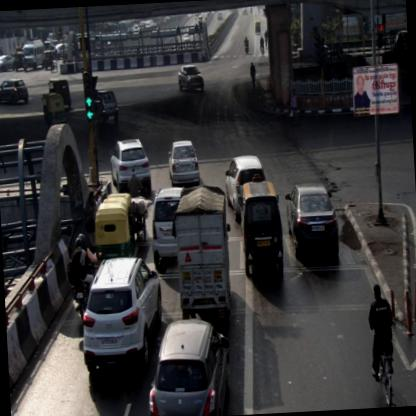bus: (19, 36, 44, 72)
car: (80, 252, 164, 375), (143, 315, 233, 415), (239, 173, 283, 280), (285, 181, 340, 263), (149, 184, 187, 270), (222, 152, 266, 223), (108, 136, 151, 197), (167, 139, 199, 186), (93, 87, 119, 122), (0, 77, 29, 107), (177, 64, 203, 93), (0, 53, 17, 73)
motorcycle: (366, 280, 398, 406), (68, 228, 100, 316), (242, 34, 250, 56), (258, 36, 265, 56)
truck: (174, 183, 236, 320)
